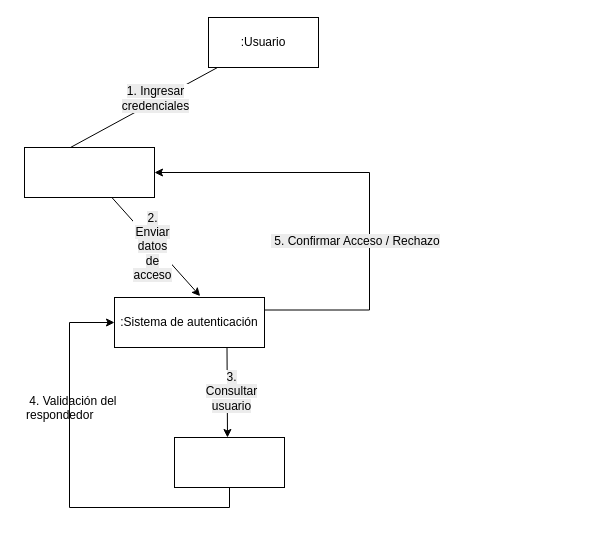
The diagram is 595 pixels wide and 533 high, and some of its shapes have lost their labels. The shapes that lost their labels are listed below. From the top down, each one's centre as x and y in pixels, then its label:
pixel 89 172: :UI_Iniciar sesión
pixel 229 462: :BD_Usuarios
